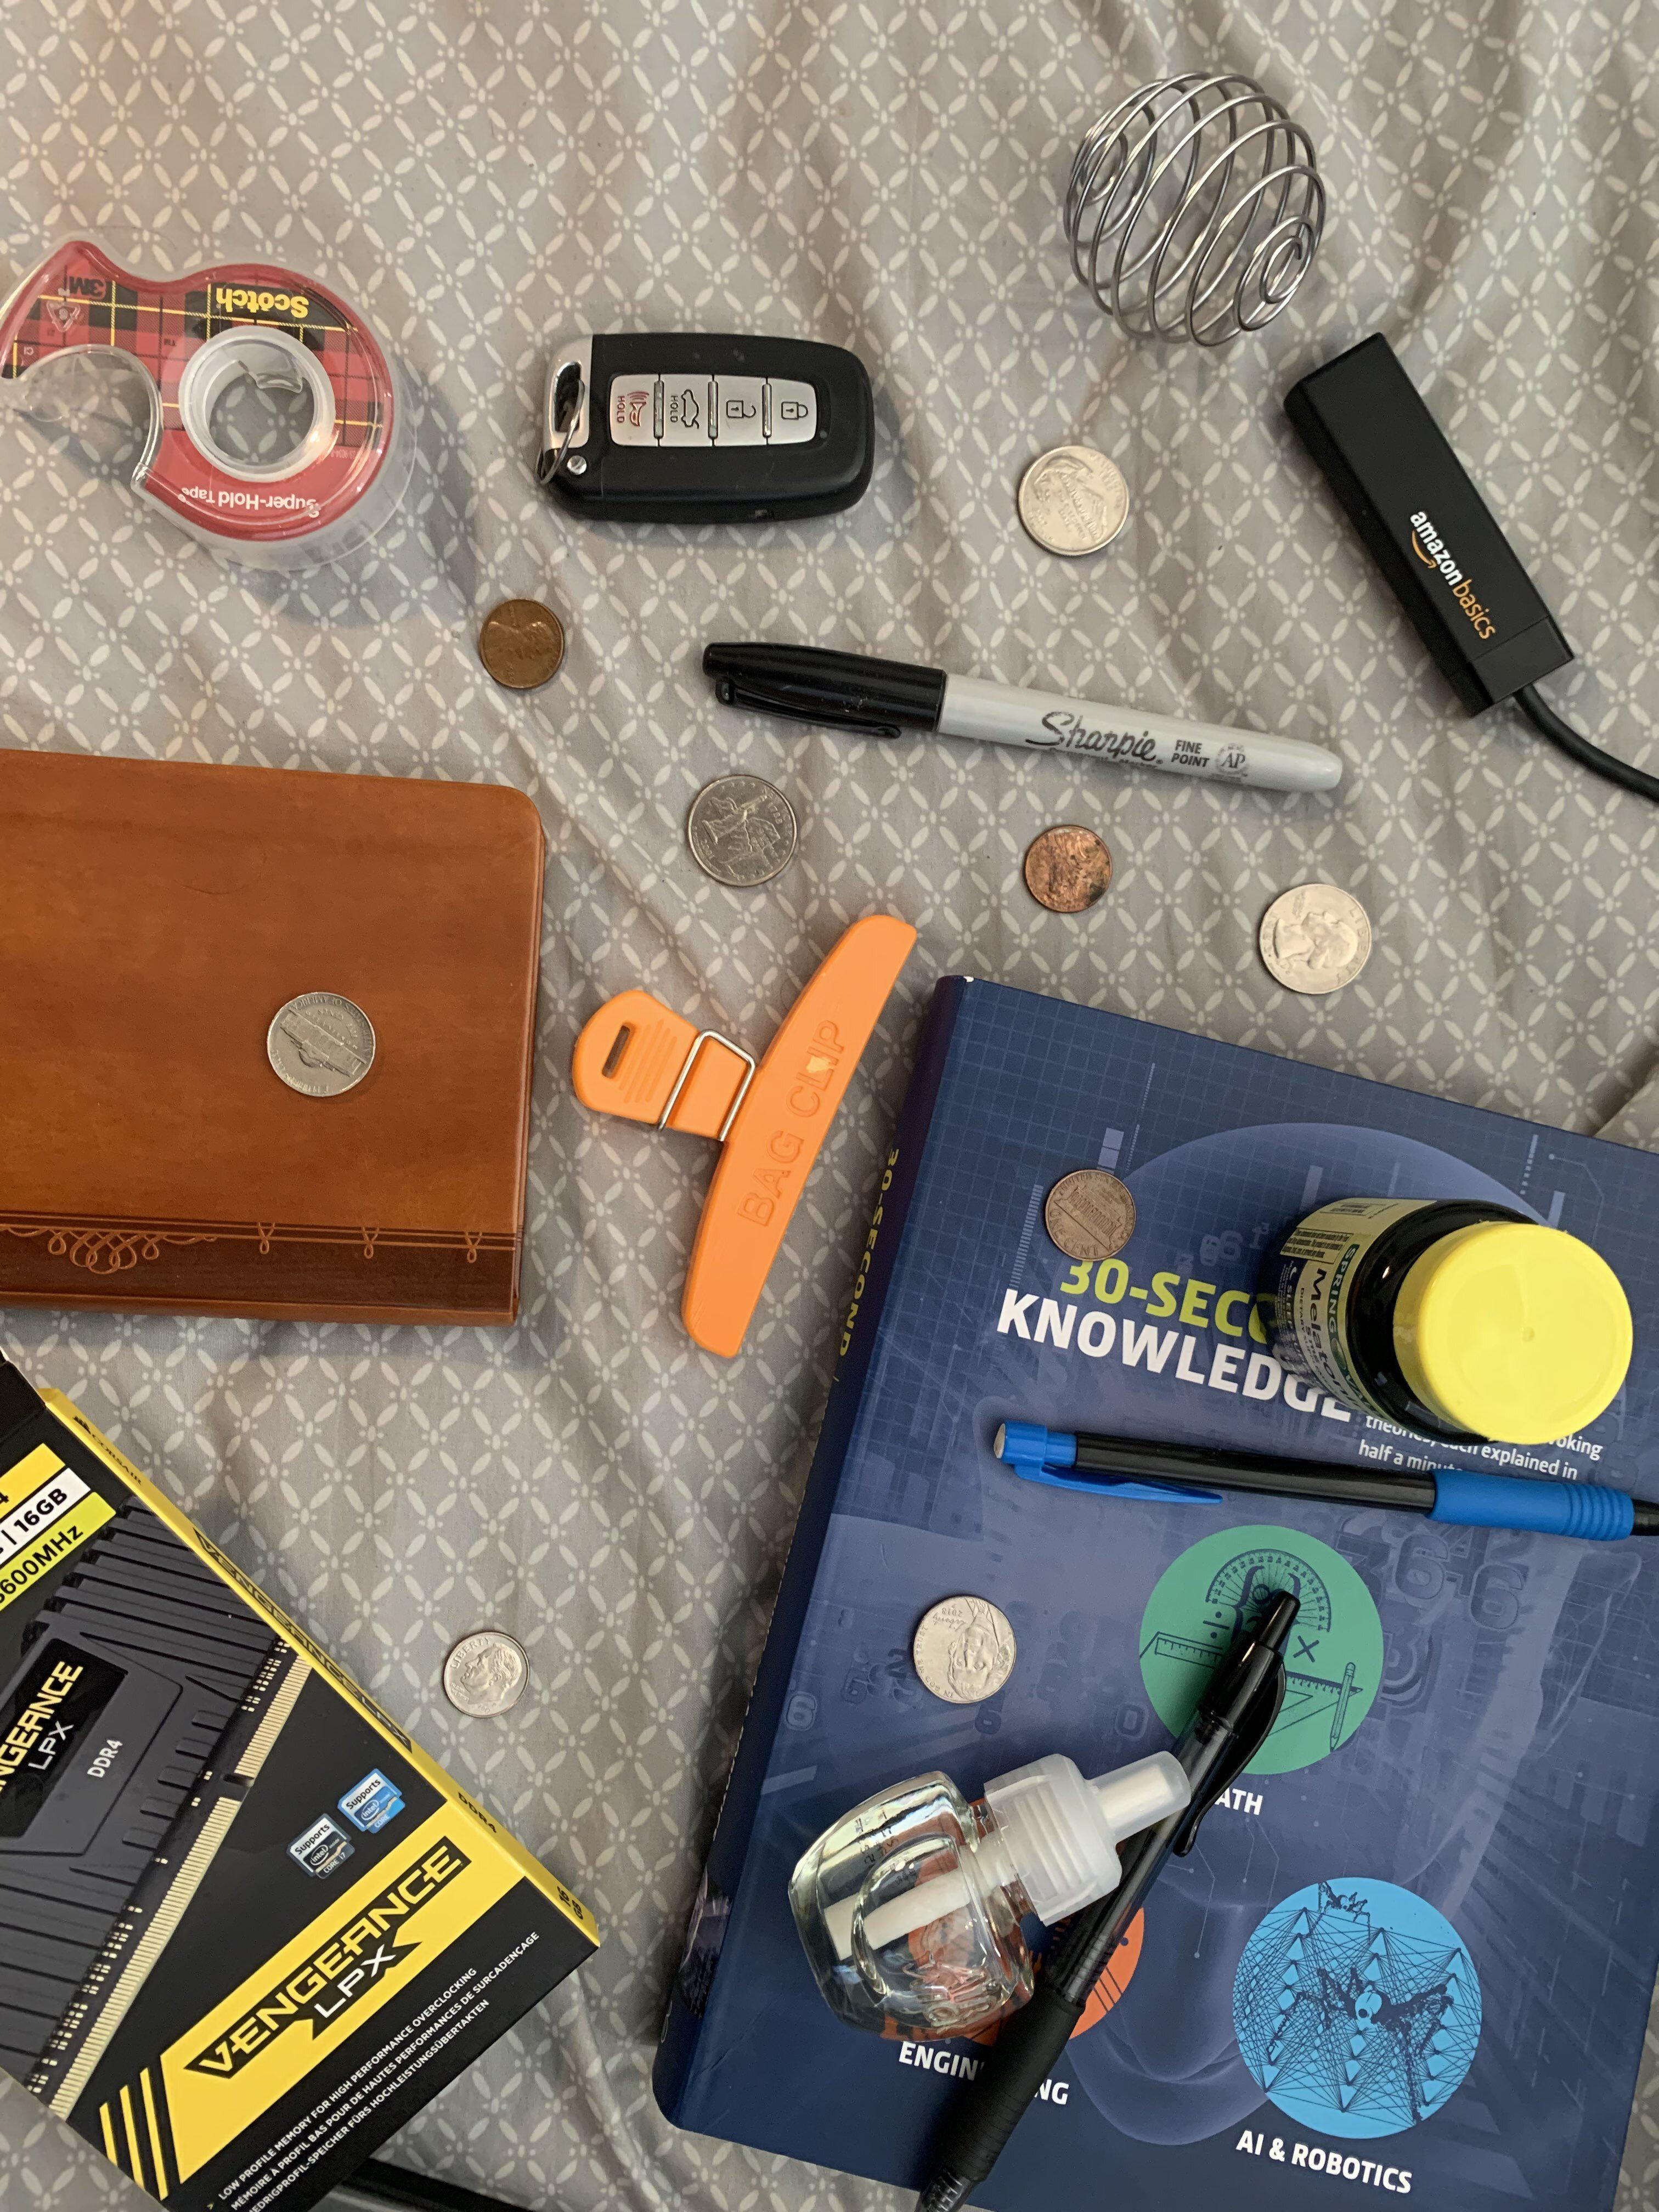Dime: (425, 1616, 545, 1726)
Nickel: (242, 975, 404, 1111), (894, 1578, 1028, 1730)
Penny: (1016, 1146, 1171, 1294), (460, 580, 584, 711), (1009, 813, 1127, 923)
Quarter: (1004, 423, 1143, 585), (1241, 869, 1387, 1014), (669, 763, 821, 894)
